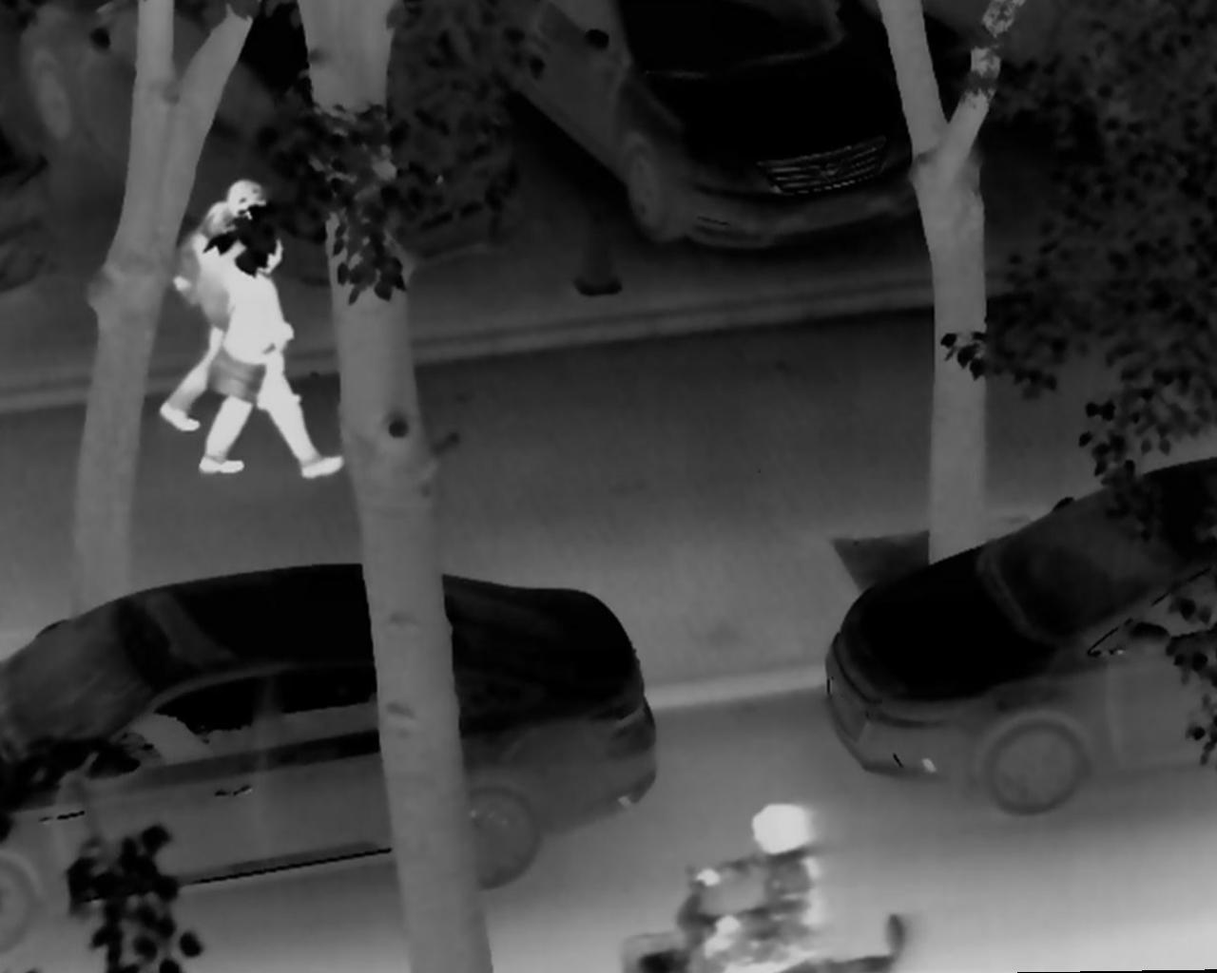person: (157, 175, 298, 436), (198, 227, 341, 482), (680, 802, 827, 973)
